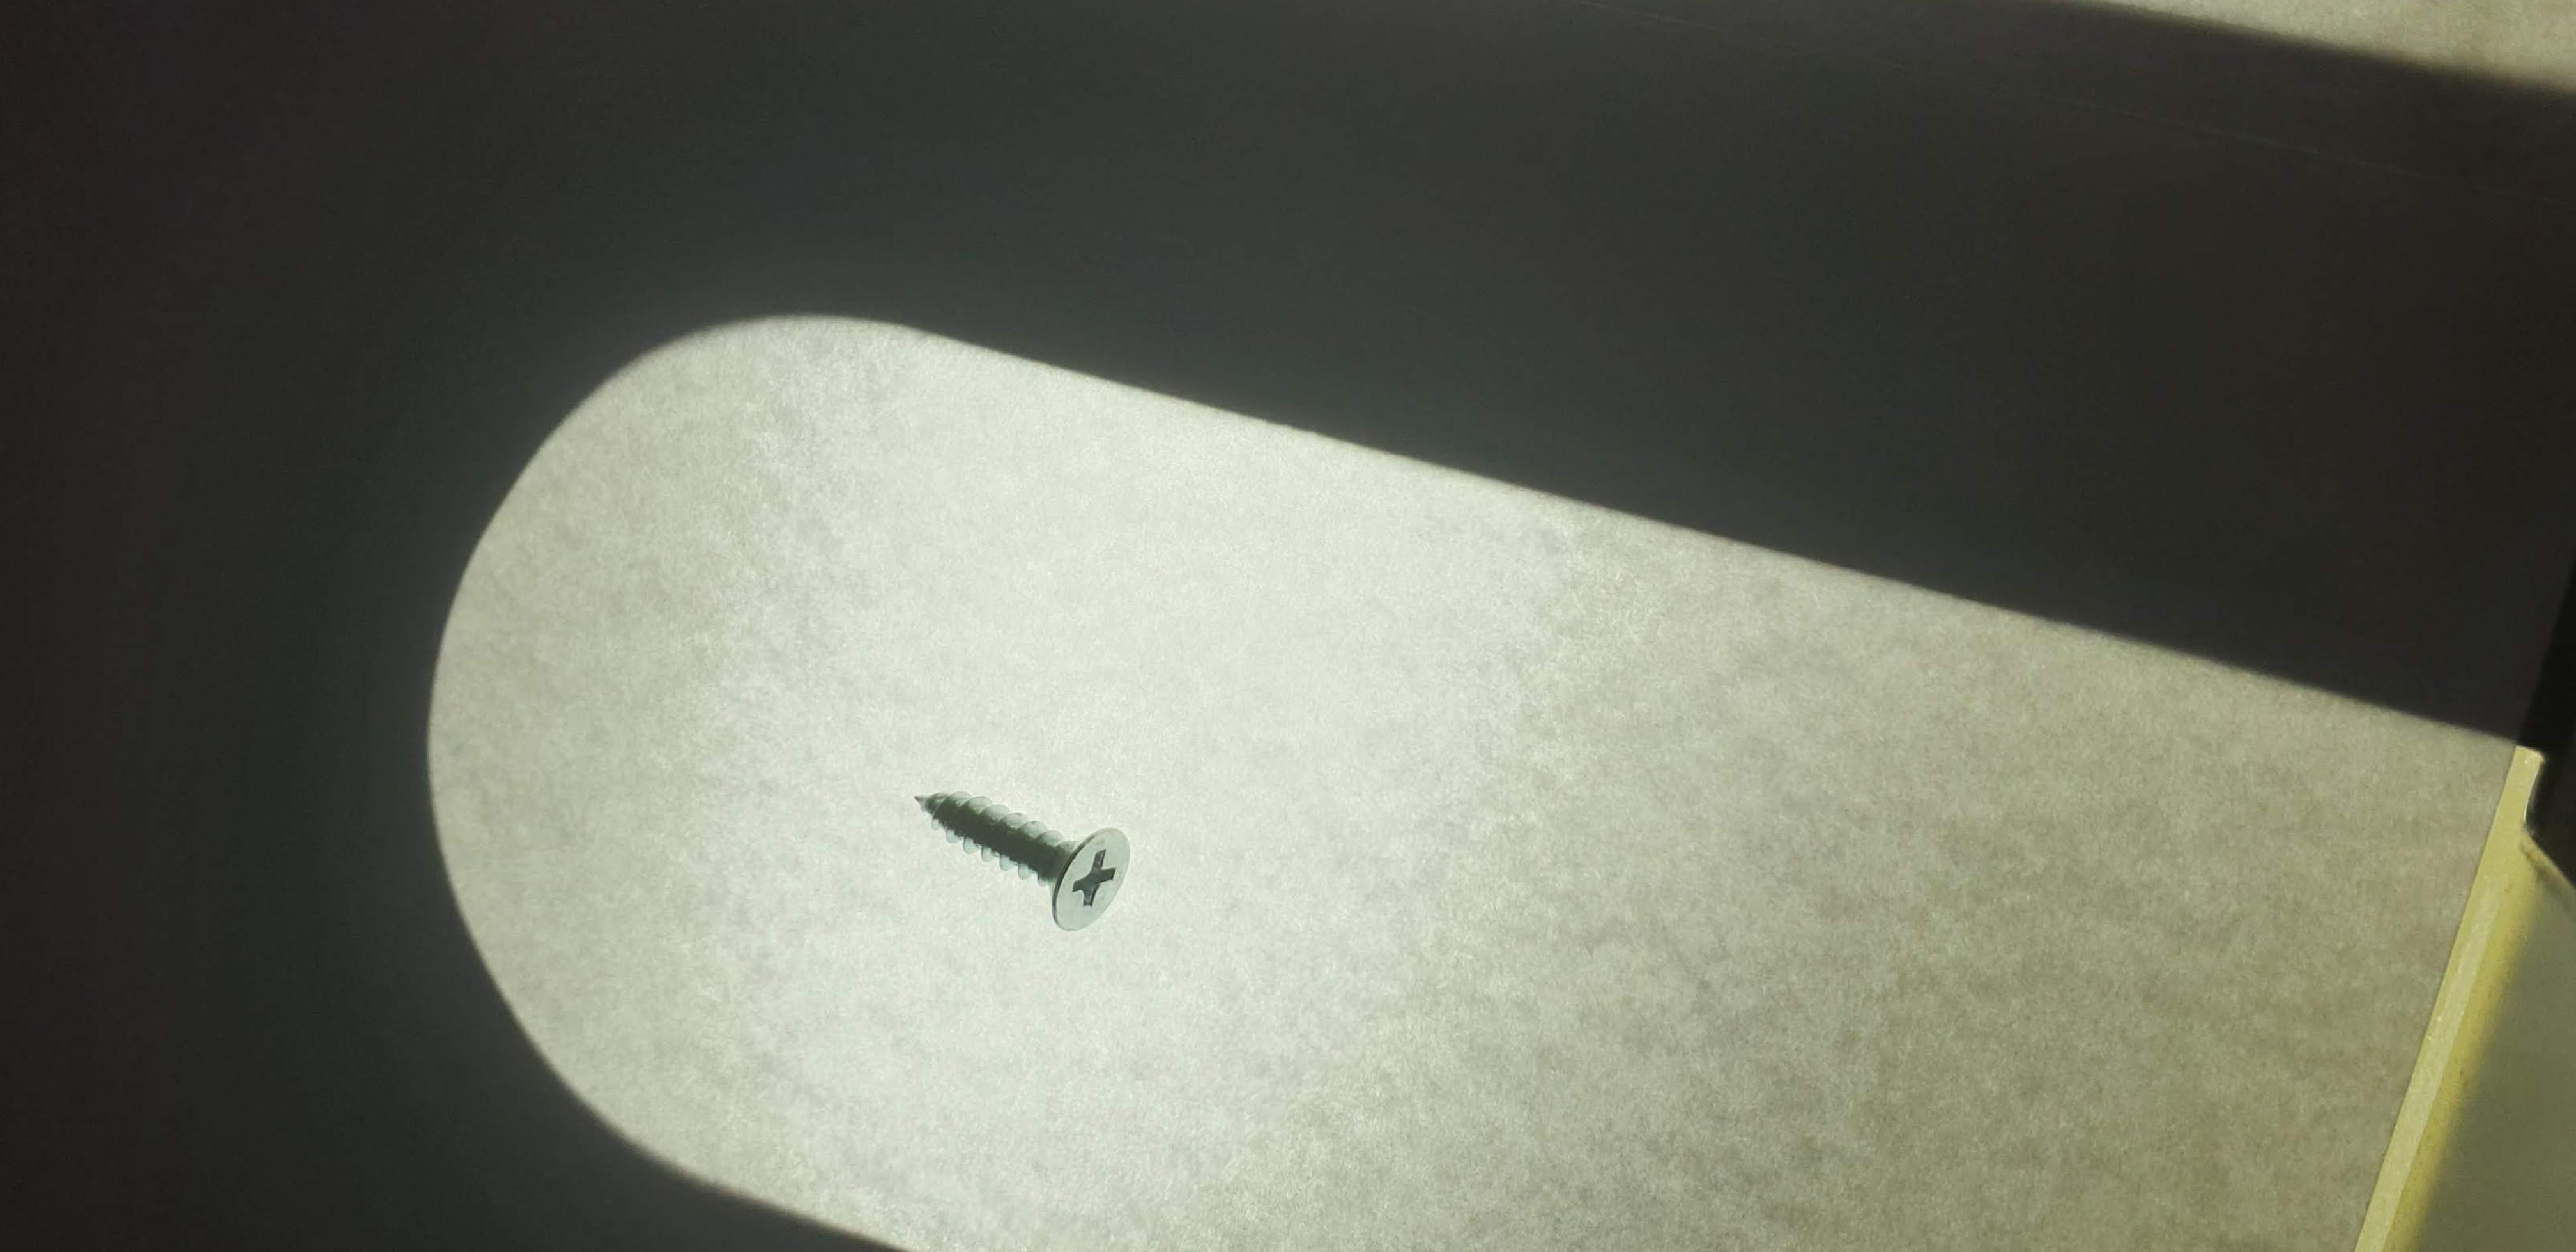S003: (871, 749, 1184, 968)
